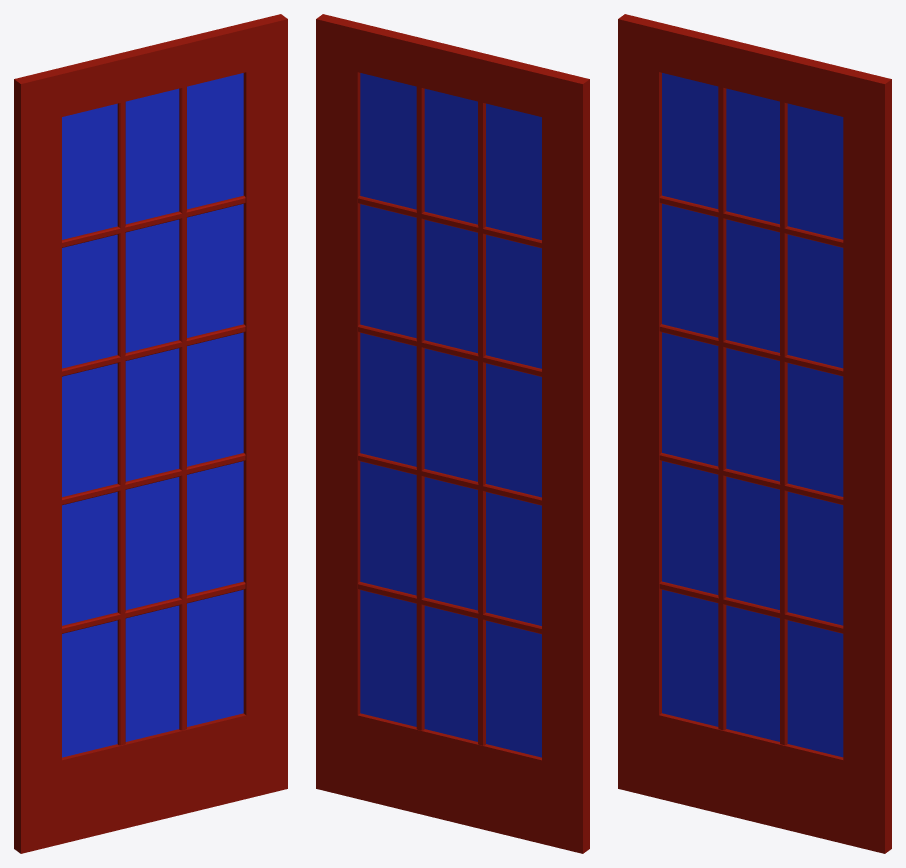
The model's file is SM_DblDoors_DoorL_01.fbx.
3 views of the same model, side by side, from view 1: azimuth 30°, elevation 25°; view 2: azimuth 150°, elevation 25°; view 3: azimuth 330°, elevation 25° (orthographic).
Parts seen in each view (by area): view 1: Door_Frame_01; view 2: Door_Frame_01; view 3: Door_Frame_01.
Boxes of the visible parts, x1,y1,x2,y2 form: Door_Frame_01: (14, 14, 287, 853); Door_Frame_01: (316, 14, 589, 853); Door_Frame_01: (618, 14, 891, 853).
Size of the model in its own units: 30.49 by 1.38 by 84.
